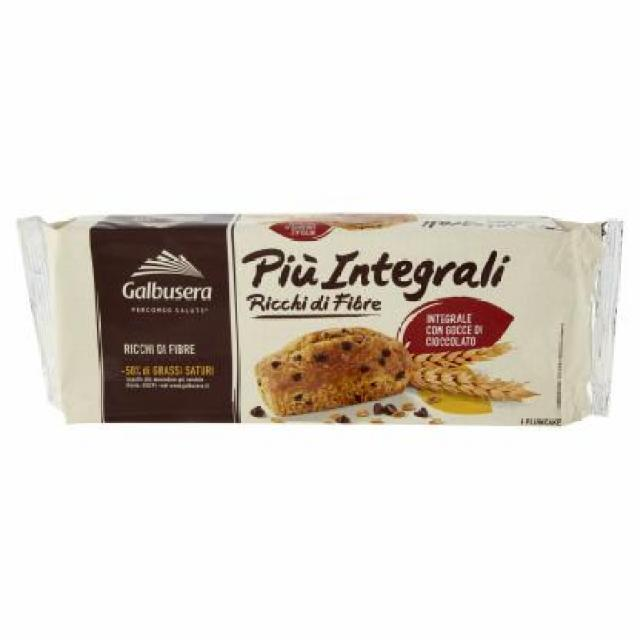Merendine: (13, 208, 630, 446)
